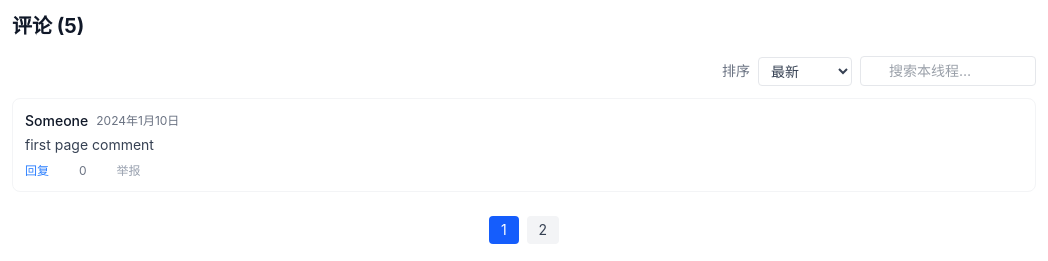
Test: CommentList › Refresh failures + page drain (ISS-307) › clamps back to the last valid page after deleting the only comment on it
This screenshot has width=1048, height=261.
Click the button "2".
click(543, 230)  # box 527,216 -> 559,244
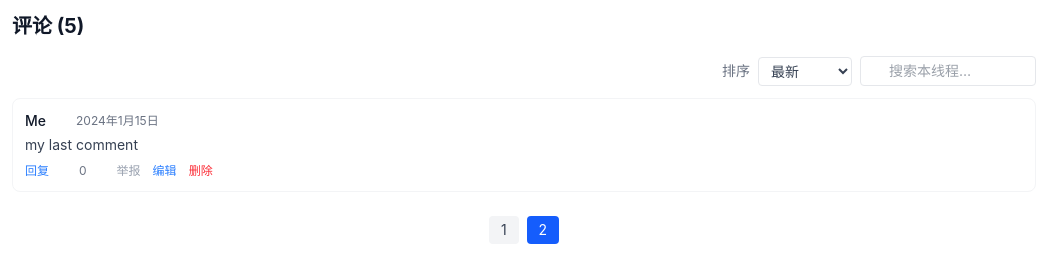
Check: the text "my last comment" is shown, box 25,136 -> 138,153
Click the button with class "comment-delete".
click(201, 171)  # box 189,163 -> 213,179
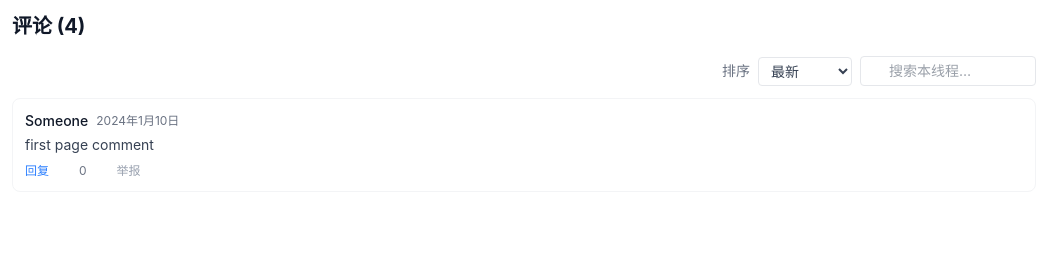
Check: the text "first page comment" is shown, box 25,136 -> 154,153
